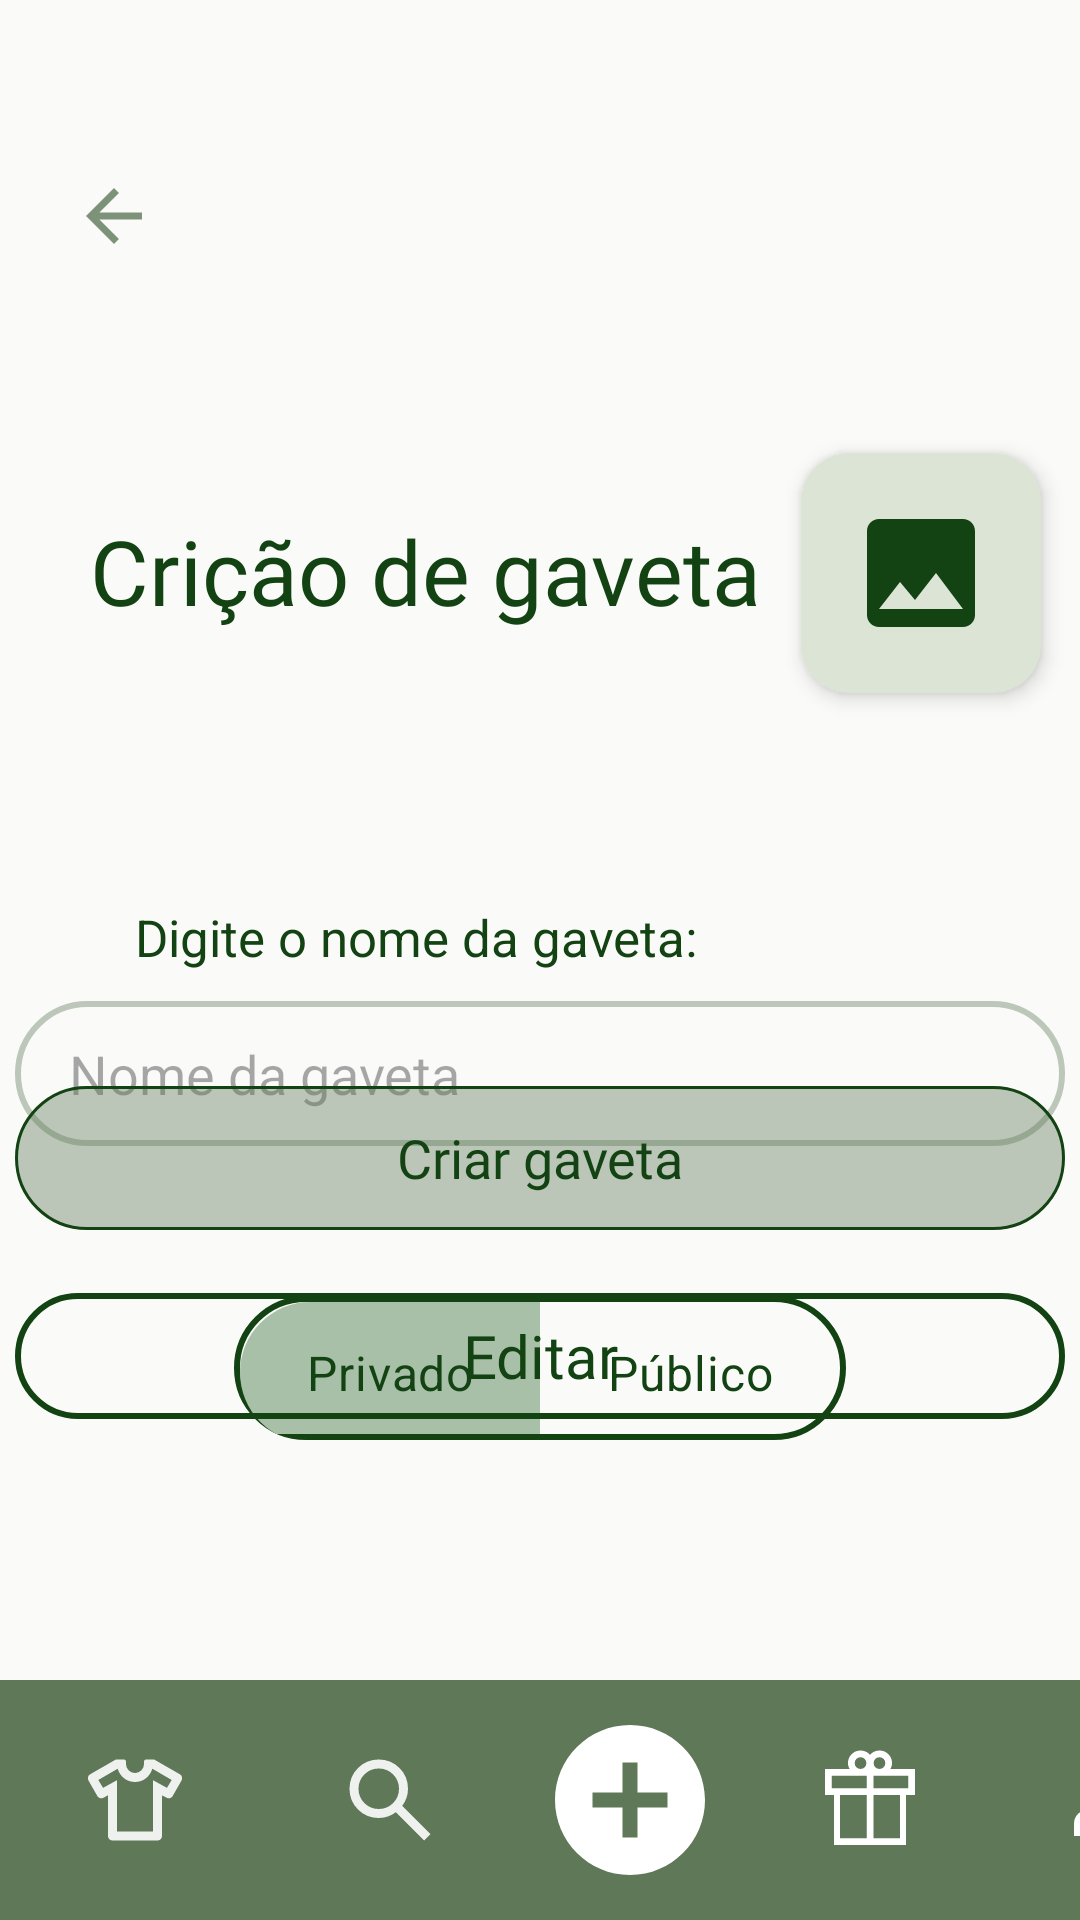

Icons on this 1080 x 1920 Android screen, each with the point to tap as (x,y):
add circle: (630,1800)
iconedoacao: (870,1797)
search branco: (390,1800)
